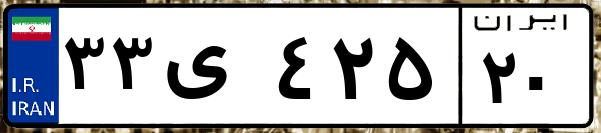0: (525, 38, 570, 115)
2: (330, 28, 385, 110), (475, 38, 525, 113)
3: (57, 26, 110, 100), (110, 28, 158, 98)
4: (270, 28, 330, 110)
5: (385, 28, 445, 110)
ی: (158, 20, 270, 120)
